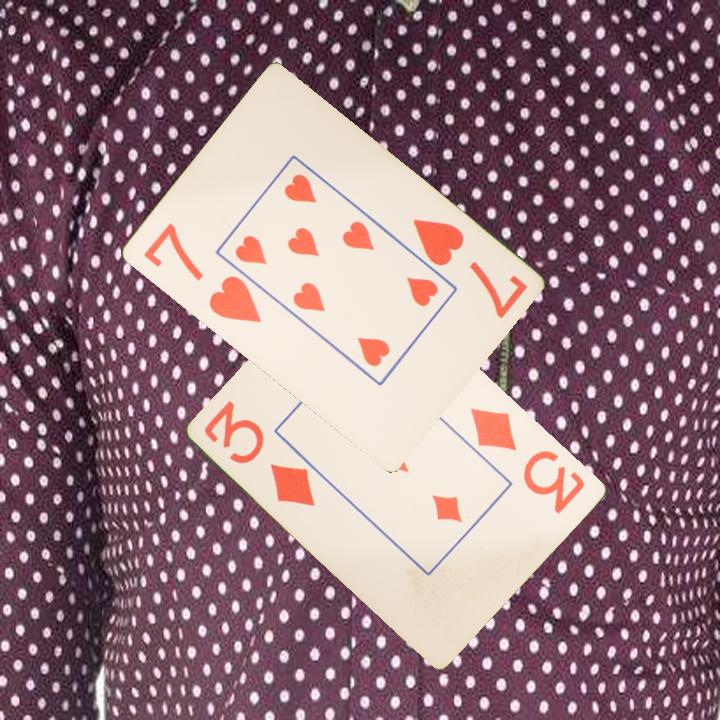3d: (467, 404, 589, 517), (201, 397, 319, 510)
7h: (139, 219, 264, 326), (408, 215, 530, 321)
